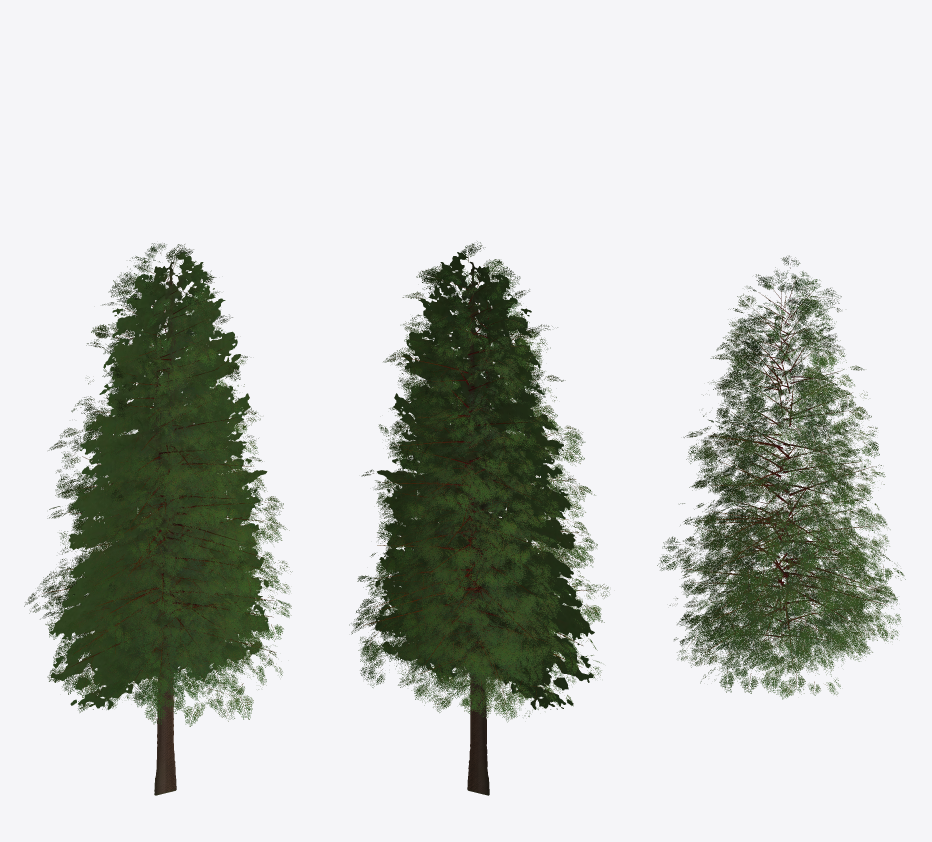
File: hinoki.glb
The picture shows the model from 3 angles, left to right: view 1: azimuth 30°, elevation 25°; view 2: azimuth 150°, elevation 25°; view 3: azimuth 270°, elevation 25°; orthographic projection. The views are drawn at different scales.
Visible parts, largest first — view 1: v0_lod0, v2_lod0, v2_imp, v0_imp, v1_lod0, v1_imp; view 2: v1_lod0, v0_imp, v0_lod0, v2_lod0, v2_imp, v1_imp; view 3: v0_lod0, v1_lod0, v2_lod0.
Boxes of the visible parts, x1,y1,x2,y2 form: v0_lod0: [52, 244, 292, 713]; v2_lod0: [36, 283, 291, 726]; v2_imp: [51, 297, 265, 794]; v0_imp: [61, 267, 263, 795]; v1_lod0: [24, 243, 289, 724]; v1_imp: [49, 252, 268, 795]; v1_lod0: [352, 241, 609, 711]; v0_imp: [380, 267, 582, 795]; v0_lod0: [357, 266, 590, 718]; v2_lod0: [349, 290, 604, 722]; v2_imp: [378, 299, 593, 795]; v1_imp: [375, 252, 594, 778]; v0_lod0: [657, 267, 898, 699]; v1_lod0: [688, 255, 905, 693]; v2_lod0: [674, 282, 901, 687].
Size of what is drawn, in the model's own units: 9.68 by 24.5 by 8.58.
2 materials, 2 textured.
